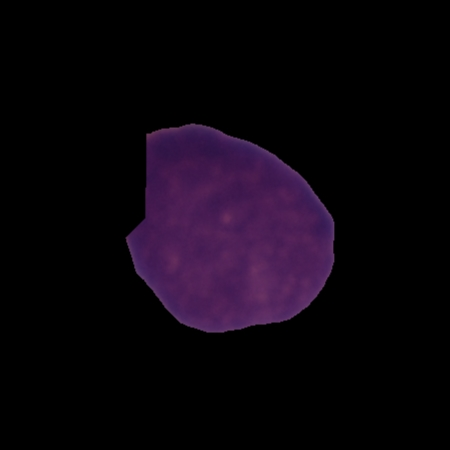HEM: (123, 119, 339, 336)
